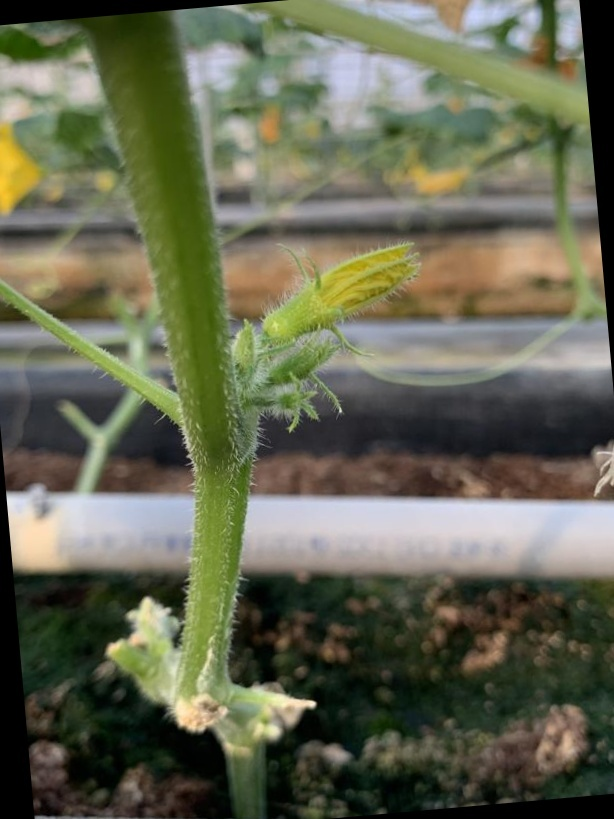bud: (263, 235, 418, 350)
